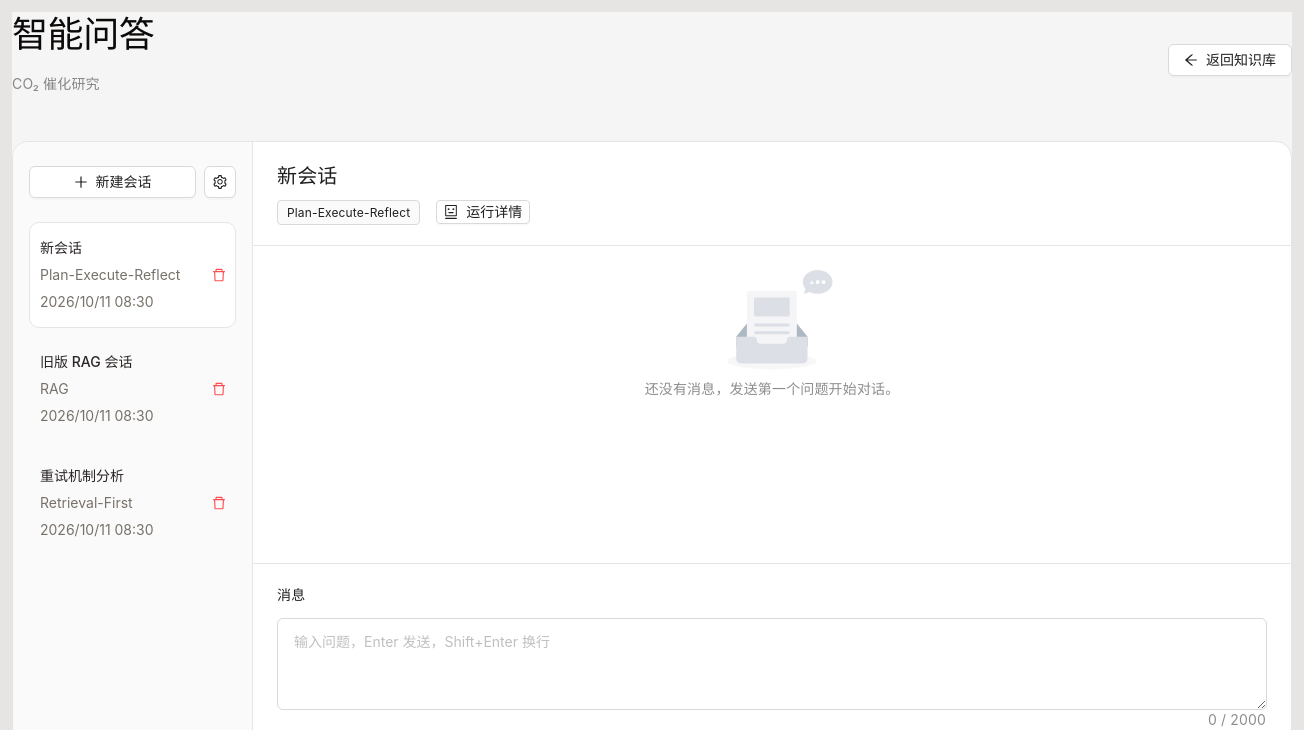
Scenario: ChatPage (MSW integration tests) › honors an initial PAUSED execution response instead of assuming it is PENDING
Type "问题" into the text box labelled "消息" at (772, 664), box [278,619,1266,709]
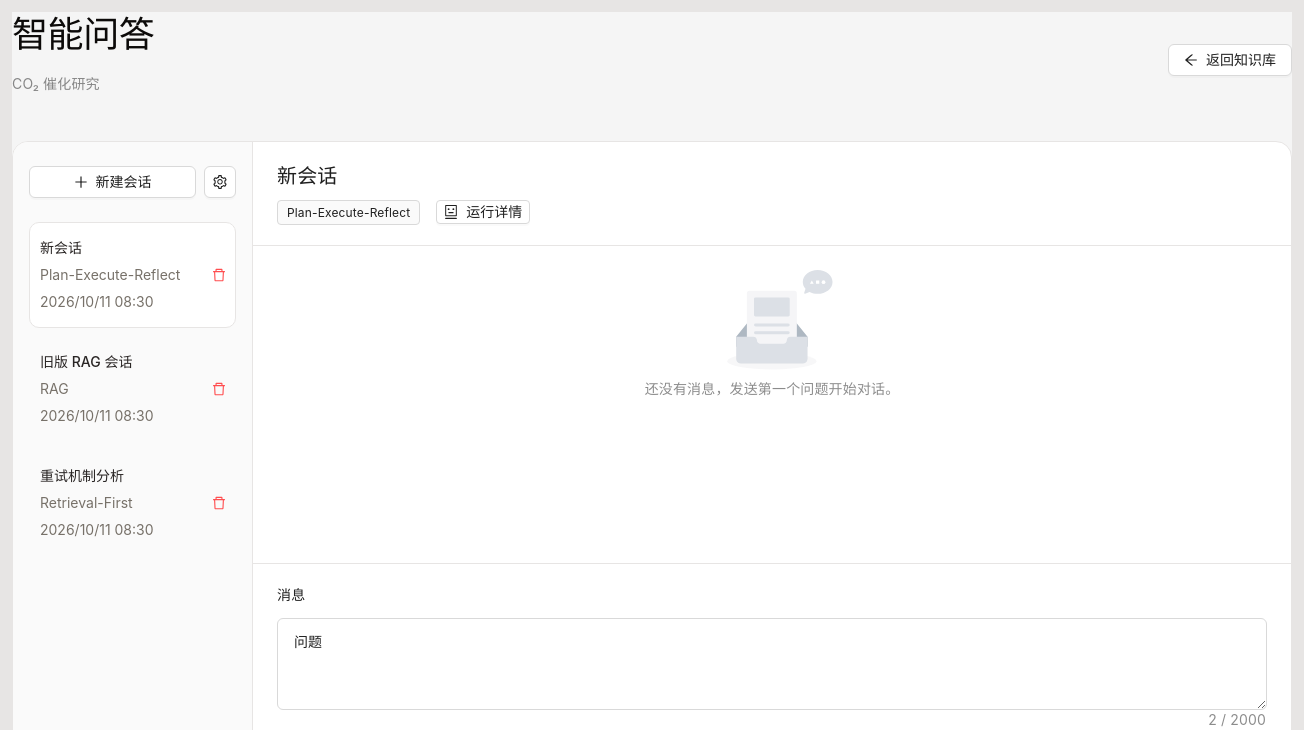
Press Enter in the text box labelled "消息", box [278,619,1266,709]
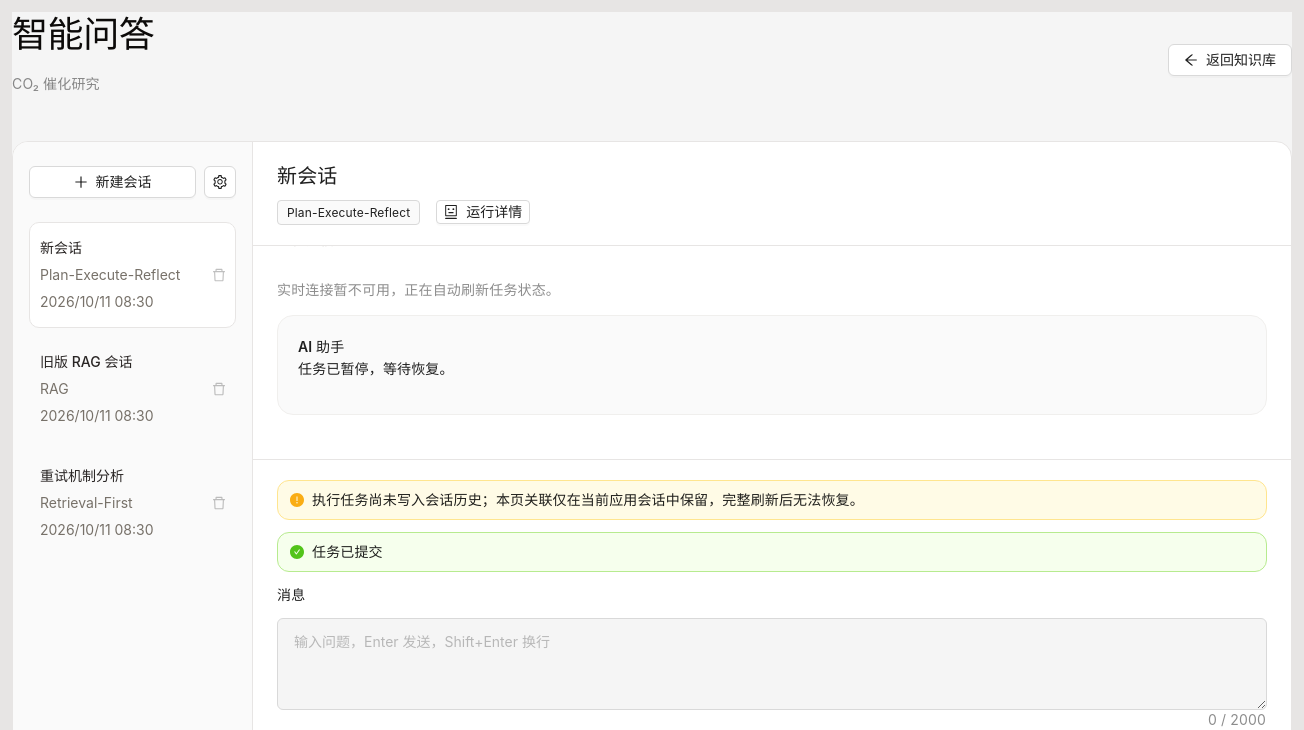
expect the element named "Agent 执行回复" is shown: met, box [277,246,1267,415]
expect the text "任务已暂停，等待恢复。" is shown: met, box [298,360,454,377]
expect the text box labelled "消息" is disabled: met, box [278,619,1266,709]
